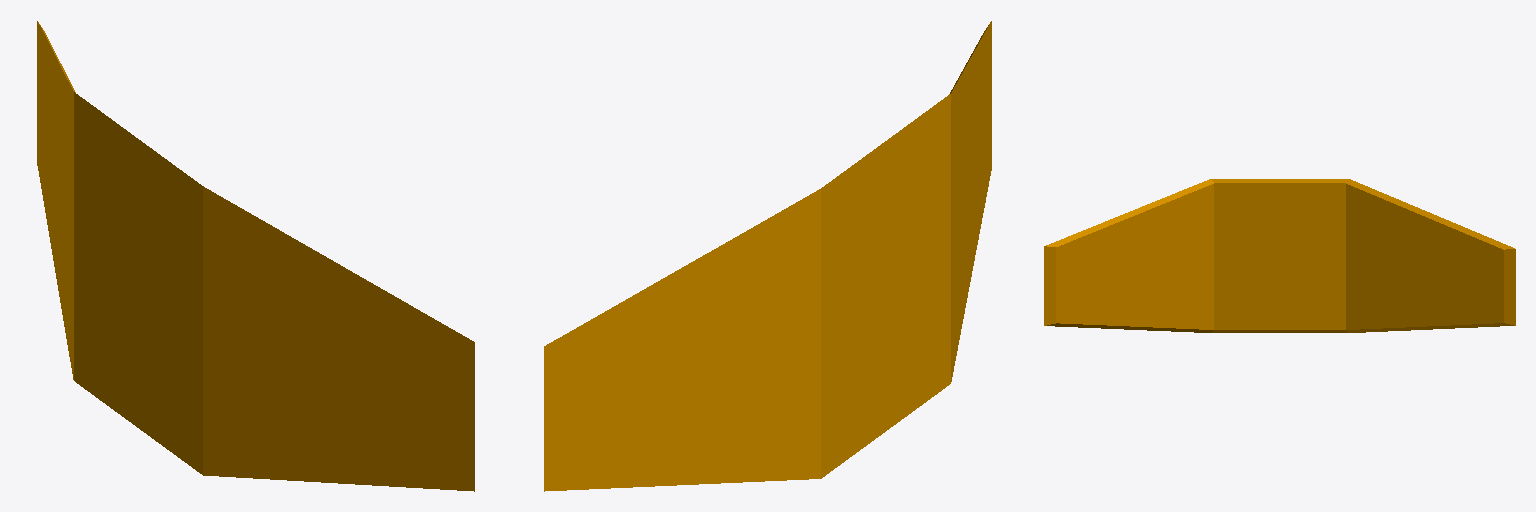
robot.urdf — potato_peel:
<?xml version="1.0"?>
<robot name="potato_peel">
  <link name="potato_peel">
    <inertial>
        <origin rpy="0 0 0" xyz="0 0 0"/>
        <mass value="0.01"/>
        <inertia ixx="2e-5" ixy="0" ixz="0" iyy="2e-5" iyz="0" izz="2e-5"/>
    </inertial>
    <visual>
      <geometry>
        <mesh filename="potato_peel_visual.obj"/>
      </geometry>
    </visual>
    <collision>
      <geometry>
        <mesh filename="potato_peel_collision.obj"/>
      </geometry>
    </collision>
  </link>
</robot>

--- Facts derived from the render (not from the file) ---
The picture shows the robot from 3 angles, left to right: view 1: azimuth 30°, elevation 25°; view 2: azimuth 150°, elevation 25°; view 3: azimuth 270°, elevation 25°; orthographic projection.
Model potato_peel with 1 links and 0 joints (none), rooted at potato_peel, posed every joint at zero.
Visible links, largest first — view 1: potato_peel; view 2: potato_peel; view 3: potato_peel.
Link boxes in pixels (bbox=[...]): potato_peel: bbox=[37, 21, 474, 491]; potato_peel: bbox=[544, 21, 991, 491]; potato_peel: bbox=[1044, 179, 1515, 332].
Size in the robot's own frame: 0.0188 by 0.1198 by 0.0434 metres.
Meshes: 1 distinct files referenced, 1 mesh visuals loaded (1 OBJ).
